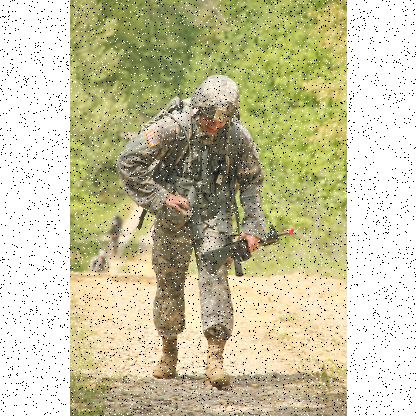gun: (210, 224, 304, 266)
